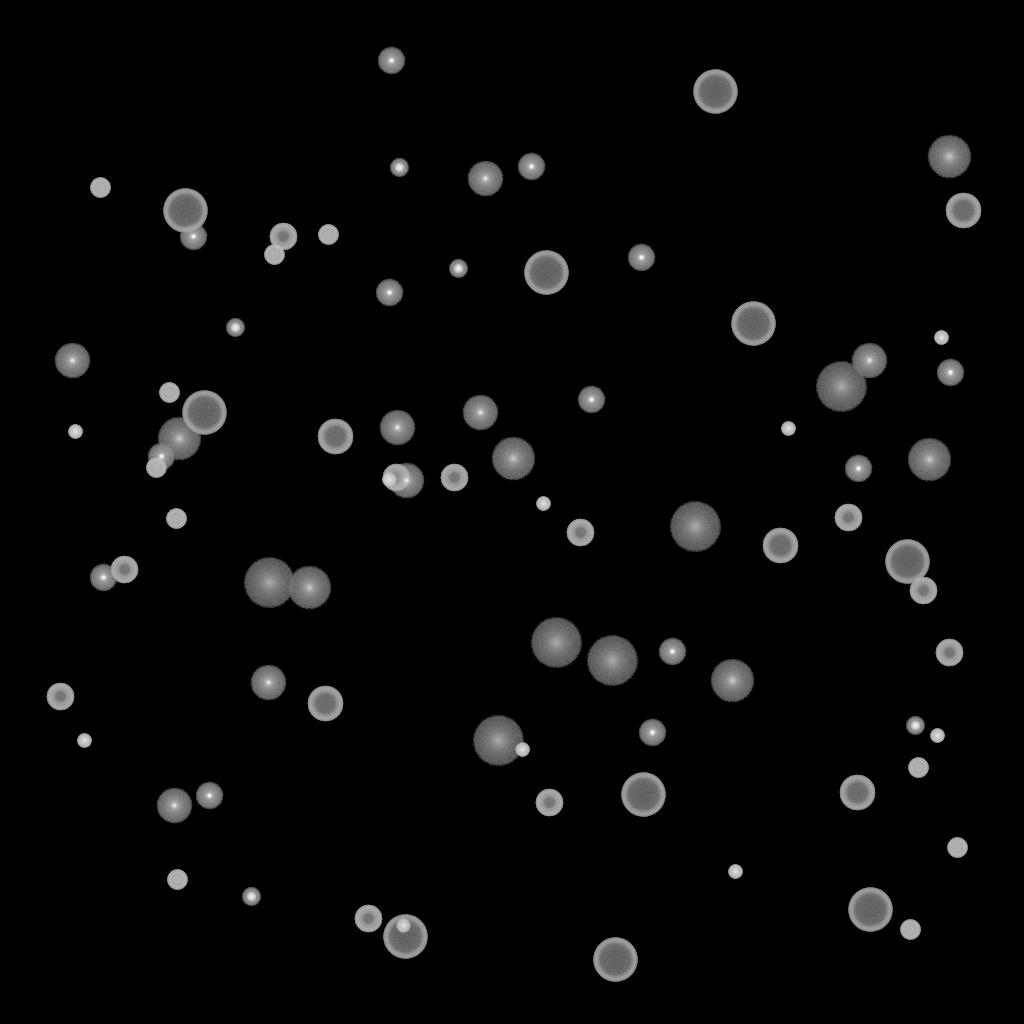depth:-10: (89, 564, 117, 592), (517, 153, 545, 181), (147, 443, 175, 471), (577, 386, 605, 414), (658, 638, 686, 666), (377, 47, 405, 75), (375, 279, 403, 307), (638, 719, 666, 747), (844, 455, 872, 483), (195, 782, 223, 810), (627, 244, 655, 272), (179, 223, 207, 251), (936, 359, 964, 387)
depth:-20: (906, 717, 924, 735), (390, 159, 408, 177), (449, 260, 467, 278), (242, 888, 260, 906), (226, 319, 244, 337)
depth:-30: (728, 865, 742, 879), (68, 425, 82, 439), (515, 743, 529, 757), (536, 497, 550, 511), (77, 734, 91, 748), (934, 331, 948, 345), (781, 422, 795, 436), (930, 729, 944, 743), (382, 473, 396, 487), (396, 919, 410, 933)
depth:-40: (146, 458, 166, 478), (264, 245, 284, 265), (900, 920, 920, 940), (90, 178, 110, 198), (908, 758, 928, 778), (167, 870, 187, 890), (159, 383, 179, 403), (947, 838, 967, 858), (166, 509, 186, 529), (318, 225, 338, 245)
depth:-50: (354, 905, 382, 933), (269, 223, 297, 251), (935, 639, 963, 667), (909, 577, 937, 605), (110, 556, 138, 584), (440, 464, 468, 492), (566, 519, 594, 547), (46, 683, 74, 711), (834, 504, 862, 532), (535, 789, 563, 817), (382, 464, 410, 492)
depth:-60: (762, 528, 798, 564), (945, 193, 981, 229), (839, 775, 875, 811), (317, 419, 353, 455), (307, 686, 343, 722)
depth:-70: (885, 540, 929, 584), (593, 938, 637, 982), (848, 888, 892, 932), (163, 189, 207, 233), (524, 251, 568, 295), (182, 391, 226, 435), (731, 302, 775, 346), (693, 70, 737, 114), (621, 773, 665, 817), (383, 915, 427, 959)
depth:0: (462, 395, 498, 431), (388, 463, 424, 499), (467, 161, 503, 197), (156, 788, 192, 824), (54, 343, 90, 379), (851, 343, 887, 379), (379, 410, 415, 446), (250, 665, 286, 701)
depth:10: (907, 438, 951, 482), (491, 437, 535, 481), (157, 417, 201, 461), (287, 566, 331, 610), (927, 135, 971, 179), (710, 659, 754, 703)
depth:20: (815, 362, 867, 412), (586, 636, 638, 686), (669, 502, 721, 552), (243, 558, 295, 608), (472, 716, 524, 766), (530, 618, 582, 668)
